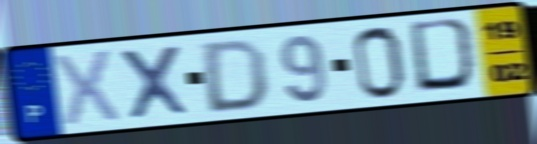0: (350, 24, 408, 101)
9: (277, 34, 329, 105)
D: (406, 16, 484, 95), (202, 36, 269, 115)
X: (116, 42, 194, 123), (52, 46, 123, 129)
